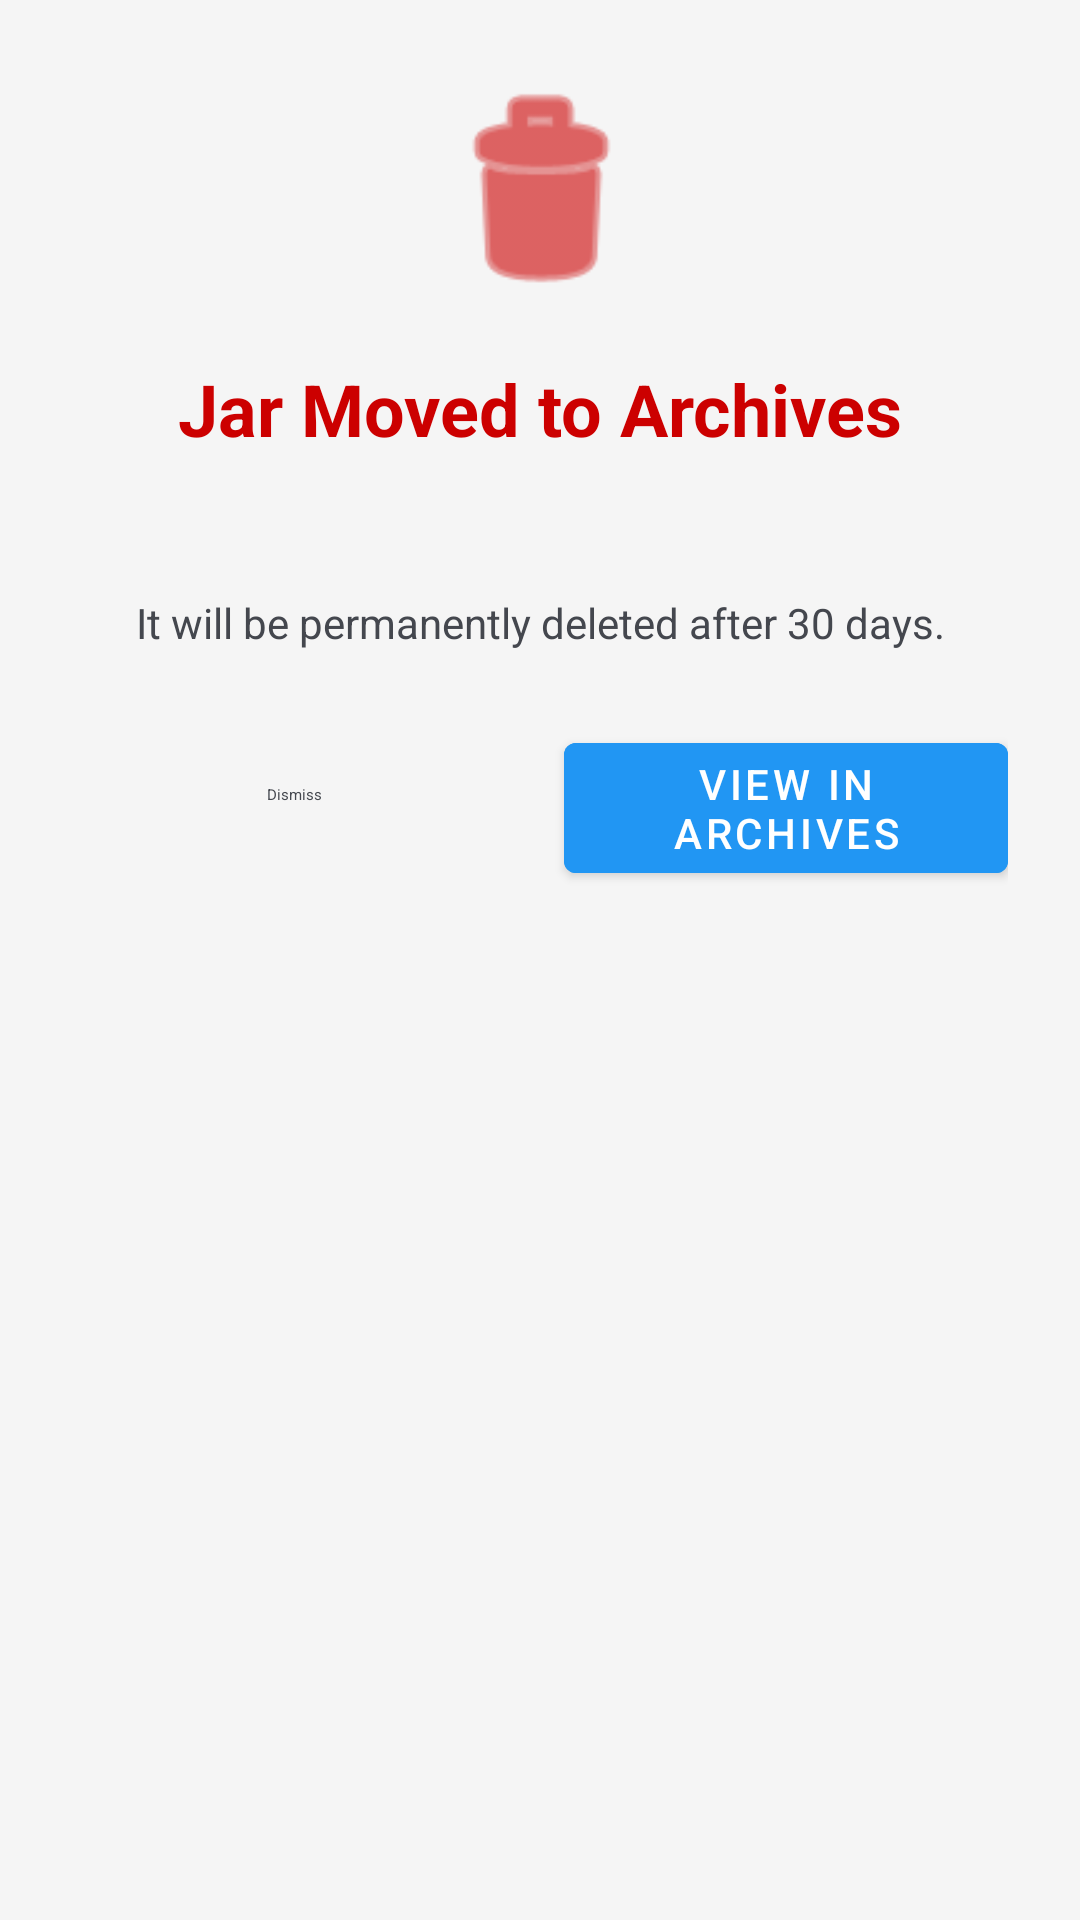

Where icons sit on this 1080×1920 app screen, as [x1,y1,x2,y2]:
delete: [473,94,609,282]
